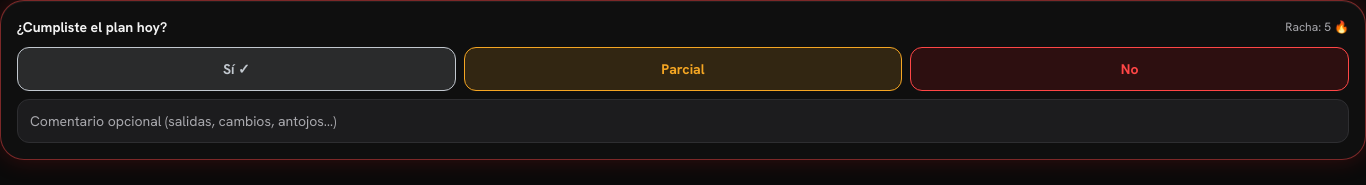
Test case: adherencia del día › las tres respuestas se guardan y después queda fijo
This screenshot has width=1366, height=185.
Expected: the text "¿Cumpliste el plan hoy?" is shown, [17,17,167,37]
Click the button "Sí ✓" at (236, 69), box [17,47,456,91]
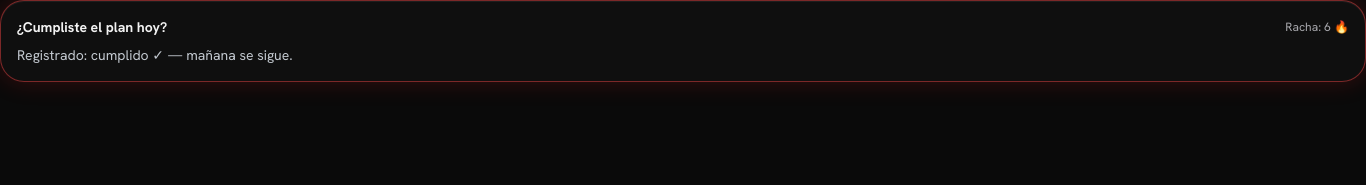
Expected: the text "Registrado: cumplido ✓ — mañana se sigue." is shown, [17,46,293,64]
